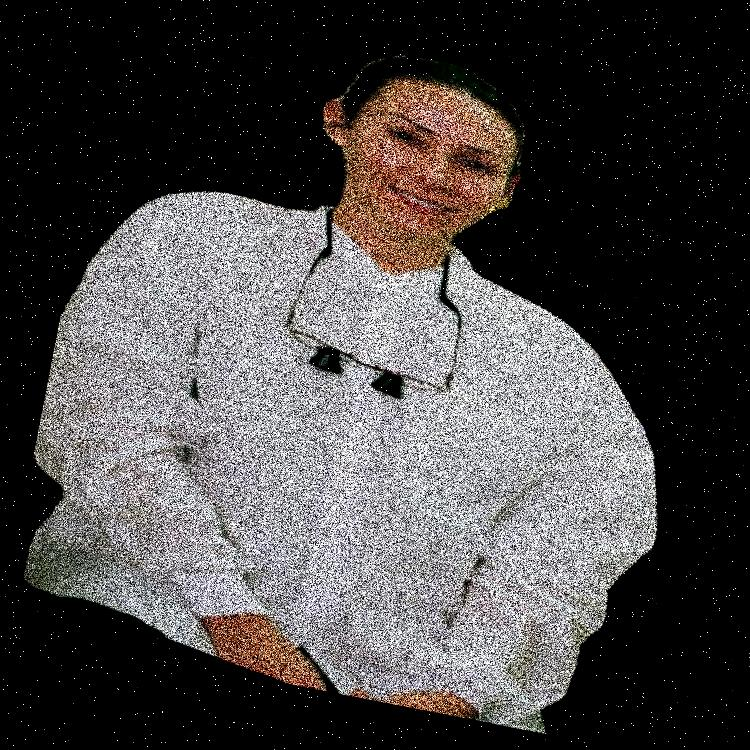Pessoa: (199, 0, 551, 749)
